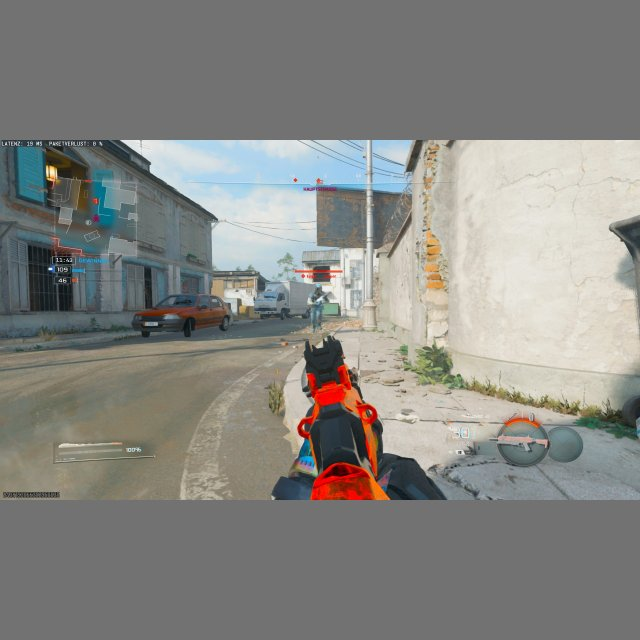head: (315, 285, 323, 293)
player: (307, 285, 329, 332)
